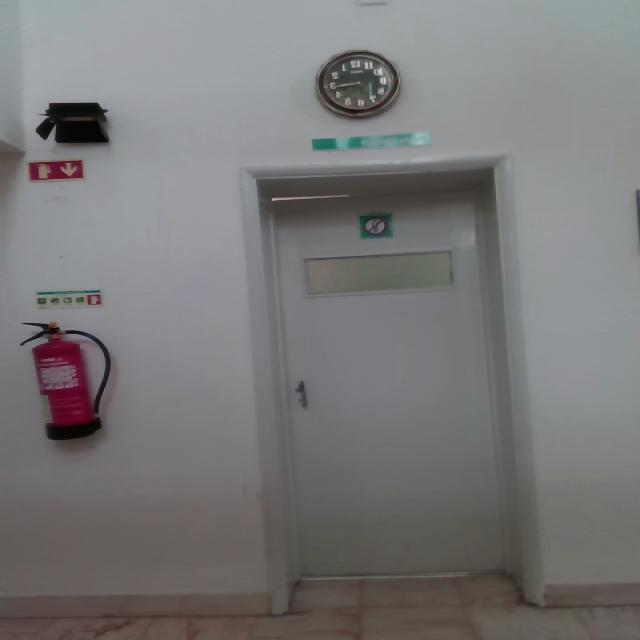door: (237, 149, 545, 616)
